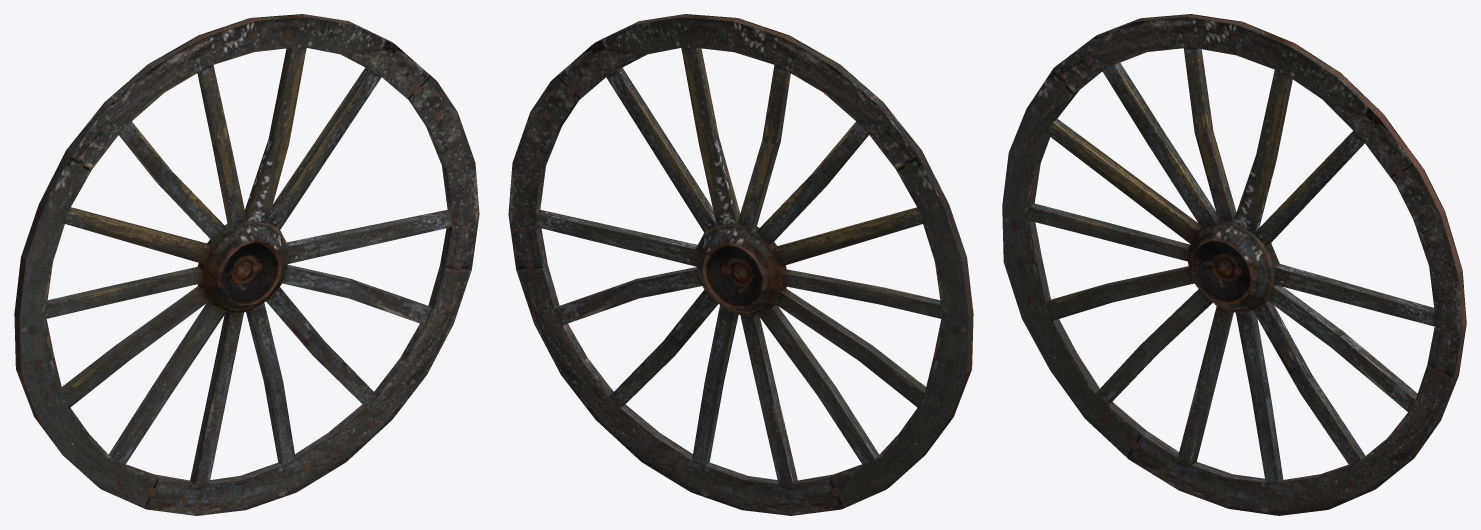
File: wheel.dae
3 views of the same model, side by side, from view 1: azimuth 30°, elevation 25°; view 2: azimuth 150°, elevation 25°; view 3: azimuth 330°, elevation 25° (orthographic).
Parts seen in each view (by area): view 1: Default_Layer; view 2: Default_Layer; view 3: Default_Layer.
Boxes of the visible parts, x1,y1,x2,y2 form: Default_Layer: [14, 14, 479, 515]; Default_Layer: [508, 14, 973, 515]; Default_Layer: [1002, 14, 1466, 515].
Bounding box in the file's own units: 1.06 × 1.07 × 0.0836.
